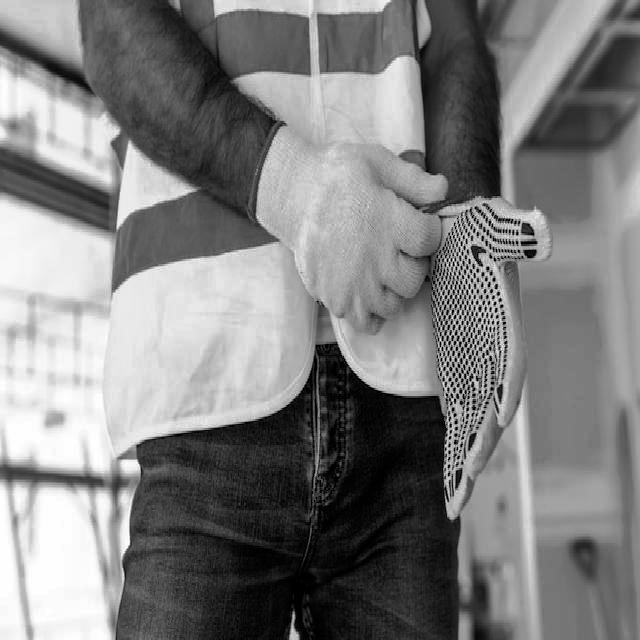2 gilet: (123, 4, 434, 456)
